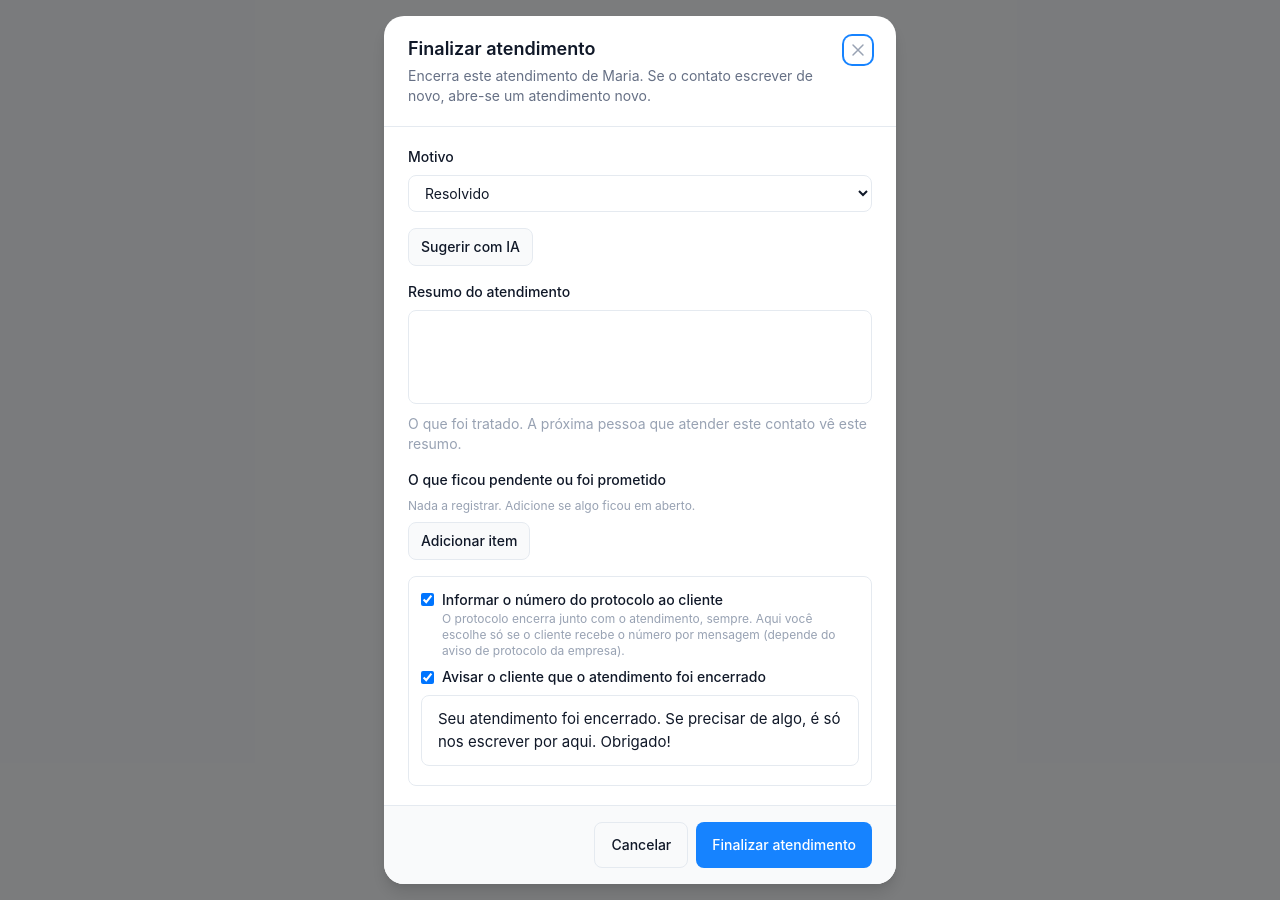
Test: finalizing the attendance through the Hub (phase 05b) › with ai.assist offers the draft, asks the instance route and fills the summary and the items for the person to check
Click the button "Sugerir com IA".
click(470, 247)  # box [408,228,533,266]
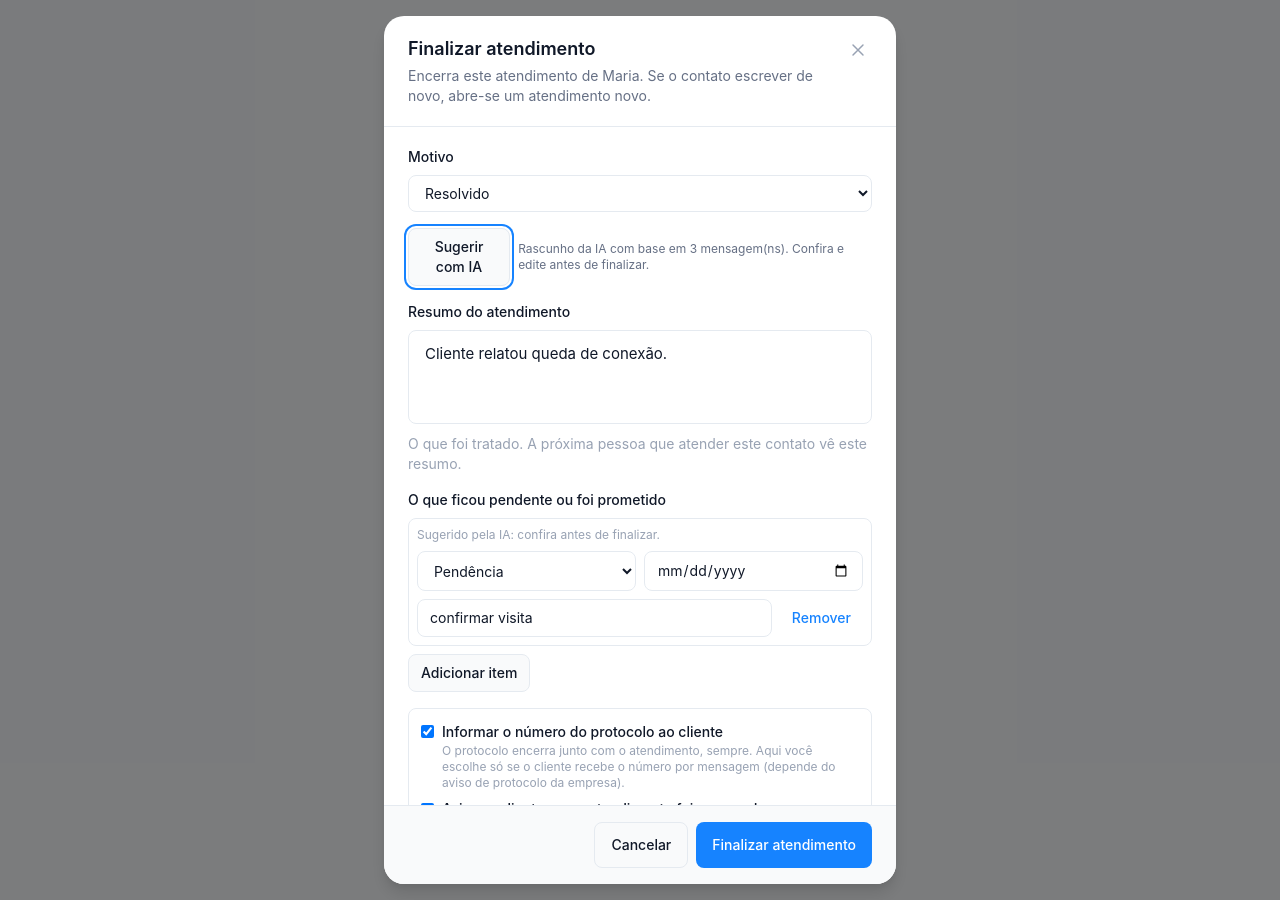
Now the text box showing "Cliente relatou queda de conexão." is shown, box [408,330,872,424]
Now the text "Sugerido pela IA: confira antes de finalizar." is shown, box [417,527,660,542]
